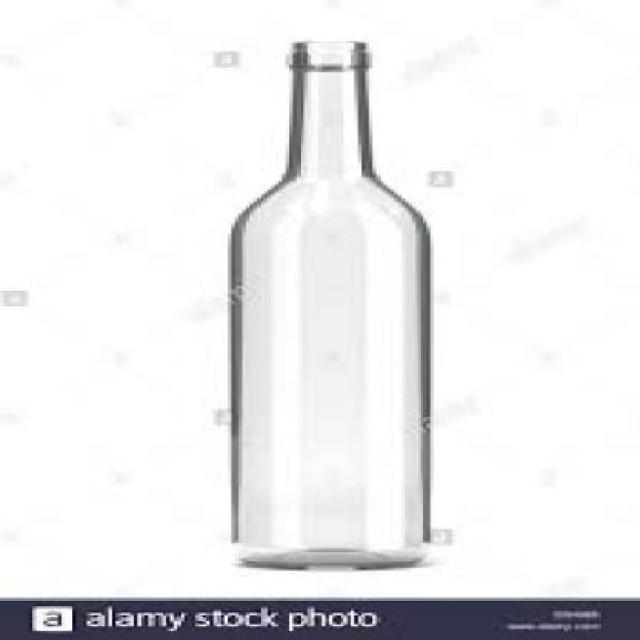kaca: (228, 39, 423, 568)
